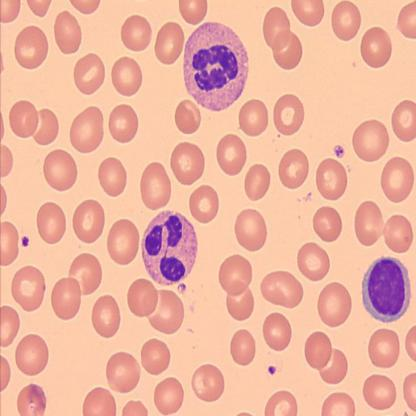Segmented neutrophil: (181, 20, 251, 113), (139, 207, 200, 286)
